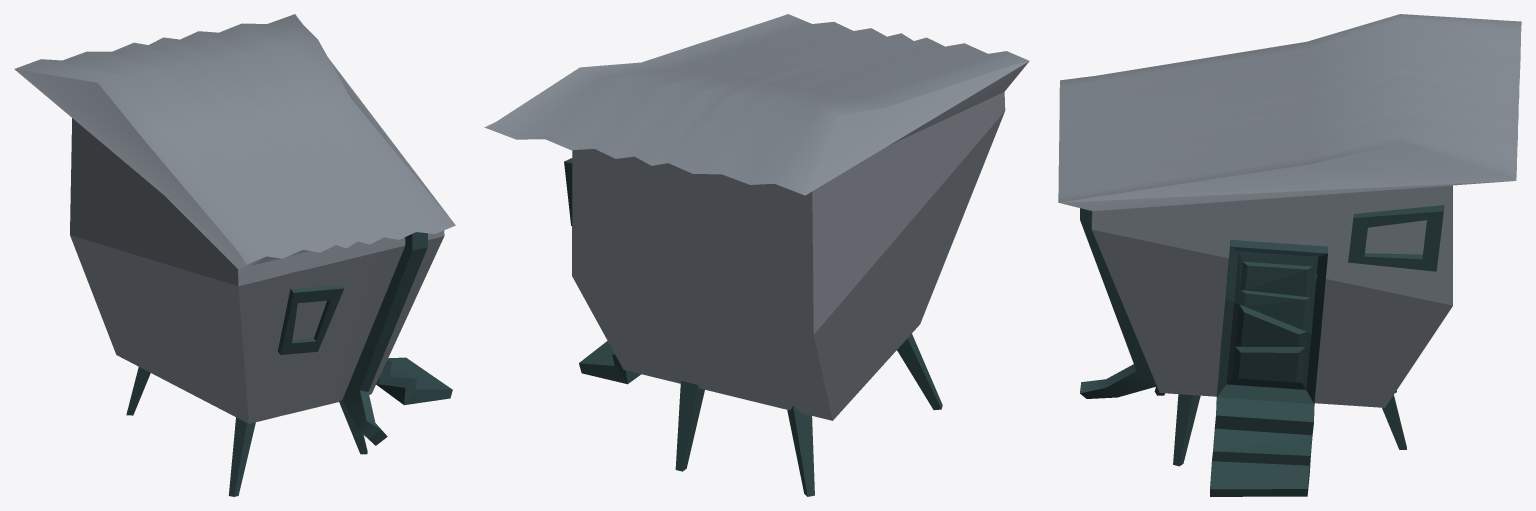
Rendered from cabane.fbx.
3 views of the same model, side by side, from view 1: azimuth 30°, elevation 25°; view 2: azimuth 150°, elevation 25°; view 3: azimuth 270°, elevation 25° (orthographic). The views are drawn at different scales.
Visible parts, largest first — view 1: pCube1, pCube2, pCube4, pasted__pasted__pCube3, pasted__pCube3; view 2: pCube1, pCube3, pasted__pCube3, pCube2, pasted__pasted__pCube3; view 3: pCube1, pCube2, pasted__pCube4, pasted__pasted__pCube3, pCube3.
Boxes of the visible parts, <box> form: pCube1: <box>14,14,455,445</box>; pCube2: <box>376,357,452,405</box>; pCube4: <box>278,285,344,354</box>; pasted__pasted__pCube3: <box>228,417,255,496</box>; pasted__pCube3: <box>126,367,150,415</box>; pCube1: <box>484,14,1029,420</box>; pCube3: <box>675,381,704,471</box>; pasted__pCube3: <box>787,406,814,496</box>; pCube2: <box>579,341,640,384</box>; pasted__pasted__pCube3: <box>897,334,942,410</box>; pCube1: <box>1058,14,1521,407</box>; pCube2: <box>1210,240,1328,496</box>; pasted__pCube4: <box>1348,205,1444,271</box>; pasted__pasted__pCube3: <box>1173,394,1200,466</box>; pCube3: <box>1382,395,1406,449</box>.
Bounding box in the file's own units: 12.84 × 14.24 × 16.1.
